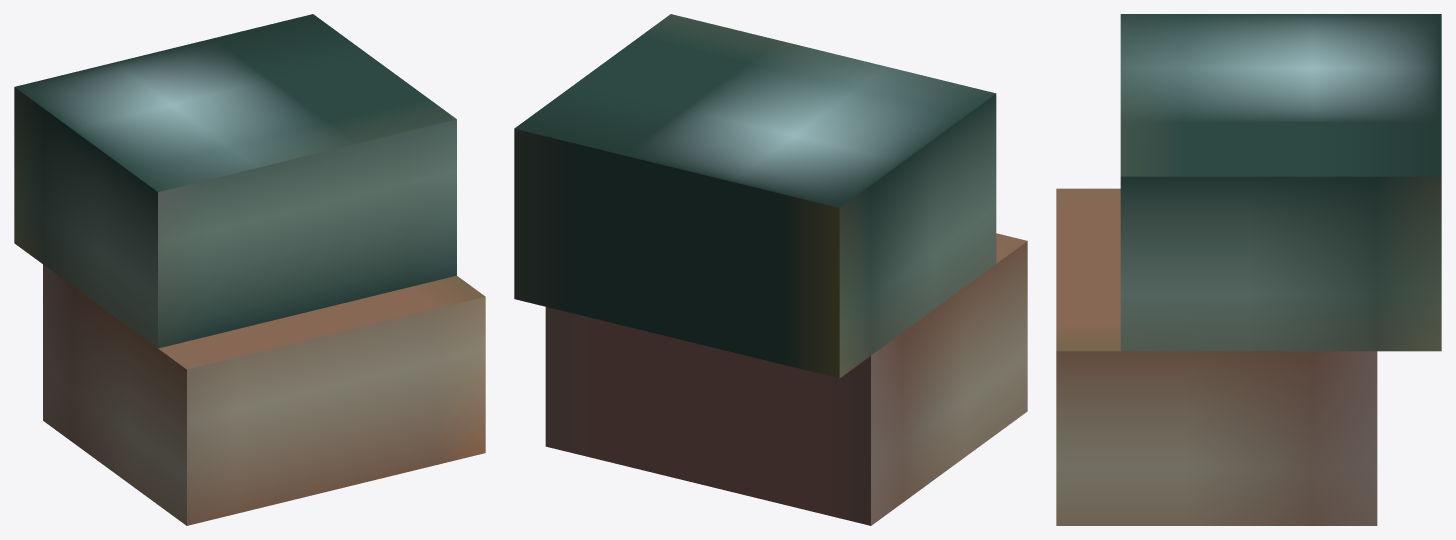
Rendered from BookStack_B_03.obj.
3 renders of one model, left to right at view 1: azimuth 30°, elevation 25°; view 2: azimuth 150°, elevation 25°; view 3: azimuth 270°, elevation 25°, orthographic. The views are drawn at different scales.
Visible parts, largest first — view 1: BookStack_B_03; view 2: BookStack_B_03; view 3: BookStack_B_03.
Boxes of the visible parts, x1=… form: BookStack_B_03: x1=14, y1=14, x2=485, y2=525; BookStack_B_03: x1=514, y1=14, x2=1027, y2=525; BookStack_B_03: x1=1056, y1=14, x2=1441, y2=525.
Bounding box in the file's own units: 0.3 × 0.3 × 0.3.
